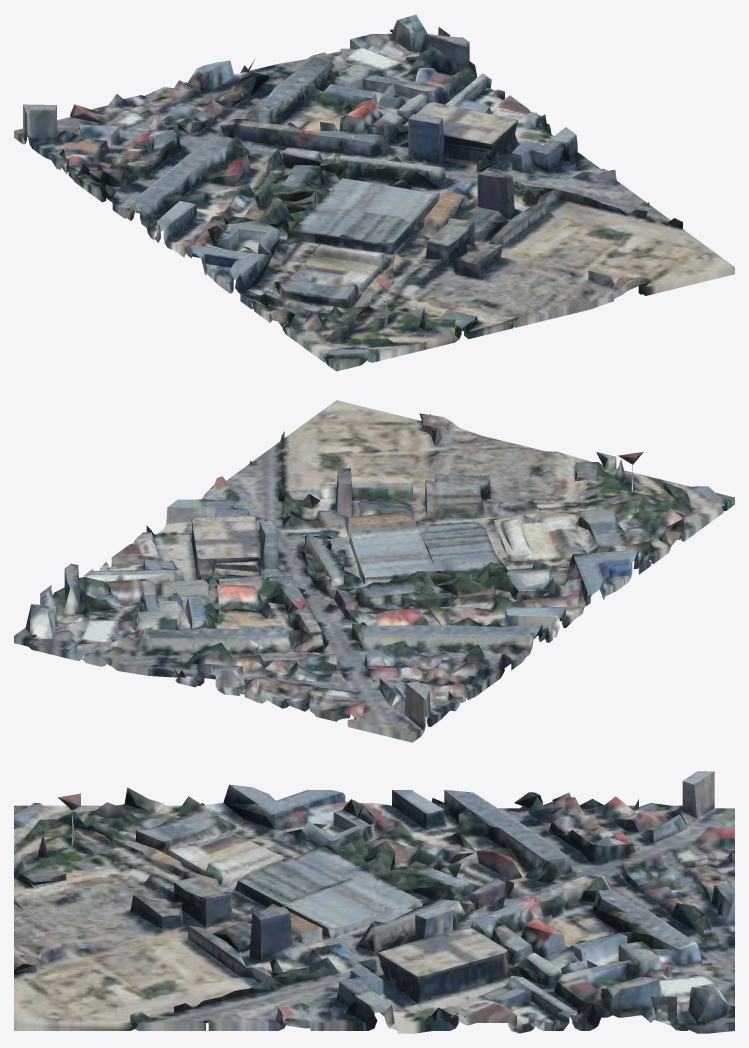
The picture shows the model from 3 angles, top to bottom: view 1: azimuth 30°, elevation 25°; view 2: azimuth 150°, elevation 25°; view 3: azimuth 270°, elevation 25°; orthographic projection. The views are drawn at different scales.
Parts seen in each view (by area): view 1: 3043627270436163_0; view 2: 3043627270436163_0; view 3: 3043627270436163_0.
Boxes of the visible parts, left/top/right/bottom form: 3043627270436163_0: left=14, top=14, right=734, bottom=371; 3043627270436163_0: left=14, top=400, right=734, bottom=742; 3043627270436163_0: left=14, top=771, right=734, bottom=1033.
Size of the model in its own units: 437 by 56.64 by 612.
Materials: 1 (1 with a texture image).
